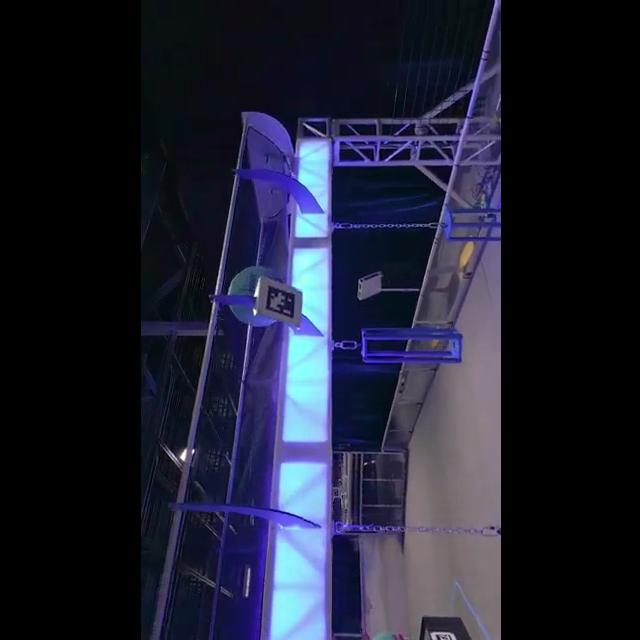ALGAE: (227, 265, 285, 325)
